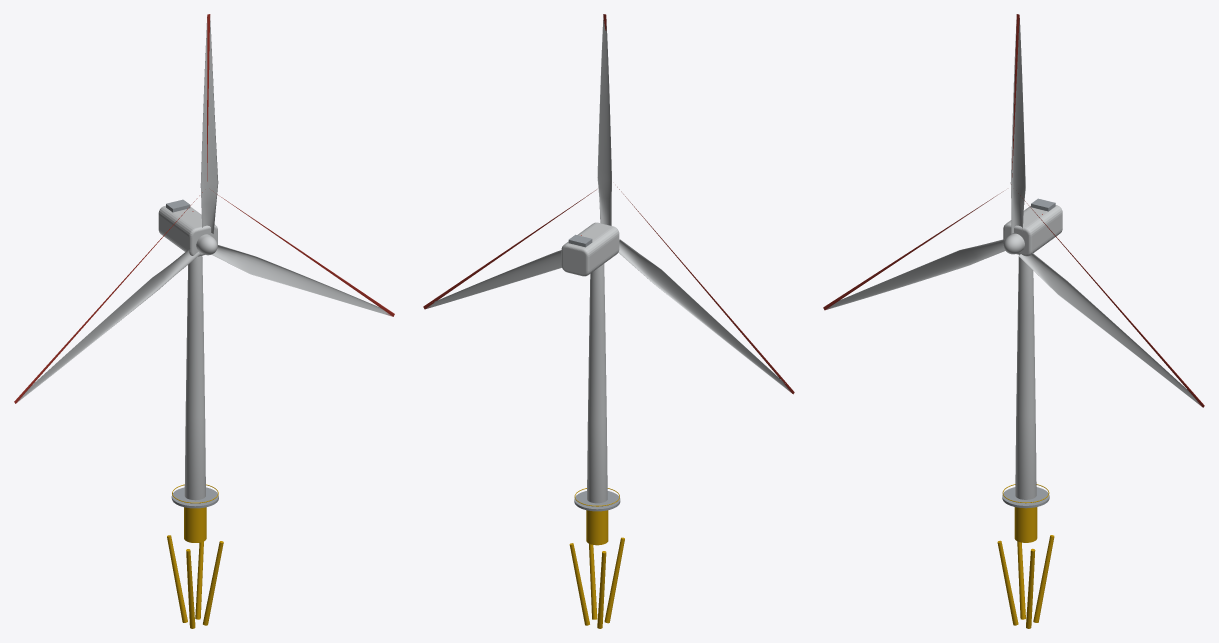
The model's file is turbine.glb.
3 views of the same model, side by side, from view 1: azimuth 30°, elevation 25°; view 2: azimuth 150°, elevation 25°; view 3: azimuth 330°, elevation 25° (orthographic). The views are drawn at different scales.
Visible parts, largest first — view 1: Rotor, Tower, NacelleShell; view 2: Tower, Rotor, NacelleShell; view 3: Rotor, Tower, NacelleShell.
Boxes of the visible parts, x1=… form: Rotor: x1=14, y1=14, x2=394, y2=403; Tower: x1=167, y1=256, x2=223, y2=628; NacelleShell: x1=158, y1=199, x2=217, y2=256; Tower: x1=569, y1=264, x2=624, y2=628; Rotor: x1=423, y1=14, x2=794, y2=394; NacelleShell: x1=561, y1=222, x2=619, y2=276; Rotor: x1=823, y1=14, x2=1204, y2=407; Tower: x1=997, y1=255, x2=1054, y2=628; NacelleShell: x1=1003, y1=198, x2=1062, y2=256.
Size of what is drawn, in the model's own units: 140 by 216 by 26.37.
